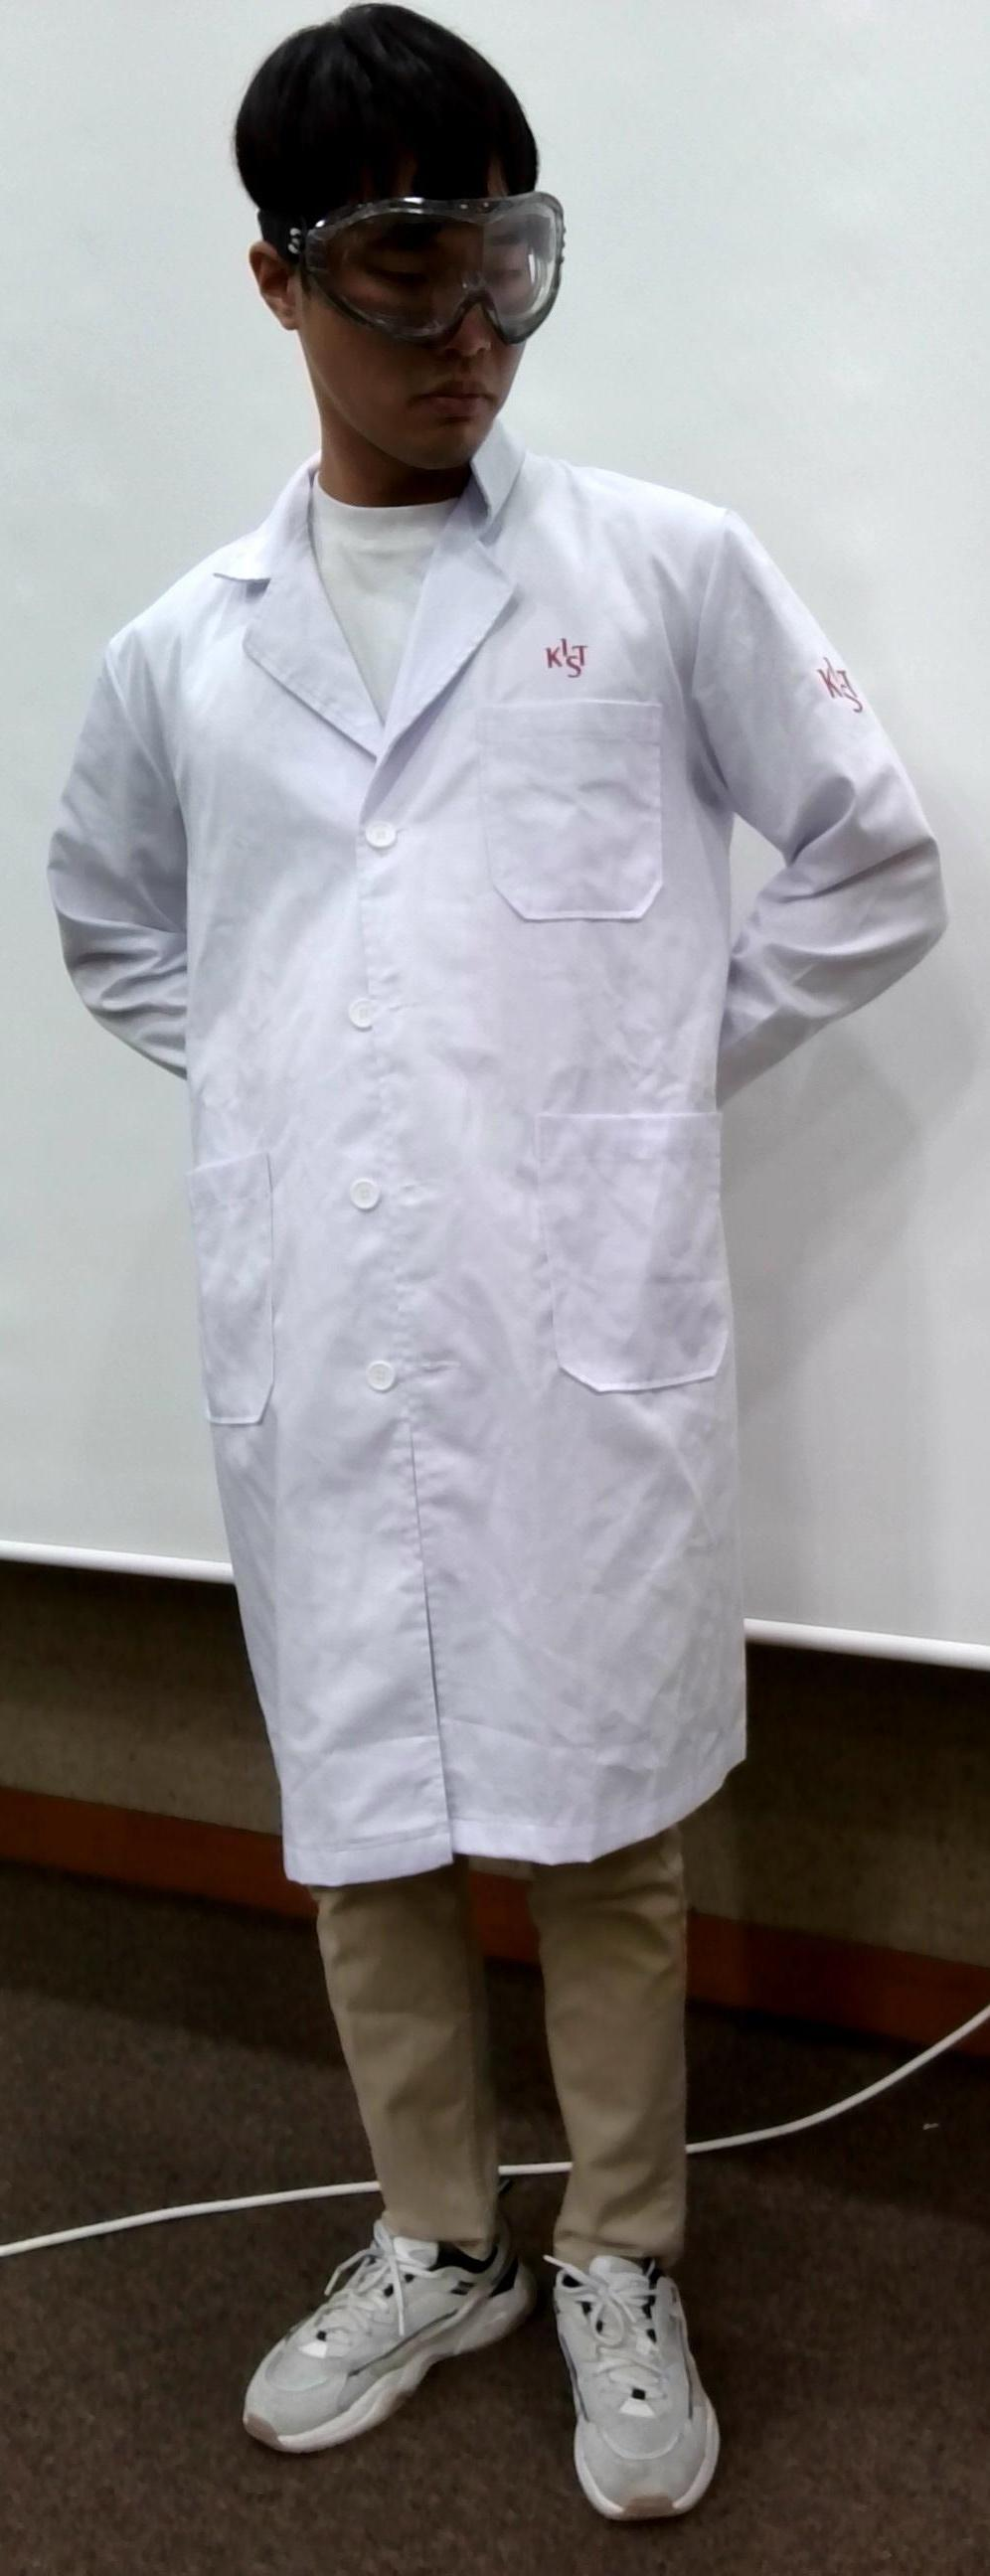lab_coat: (135, 532, 773, 1863)
